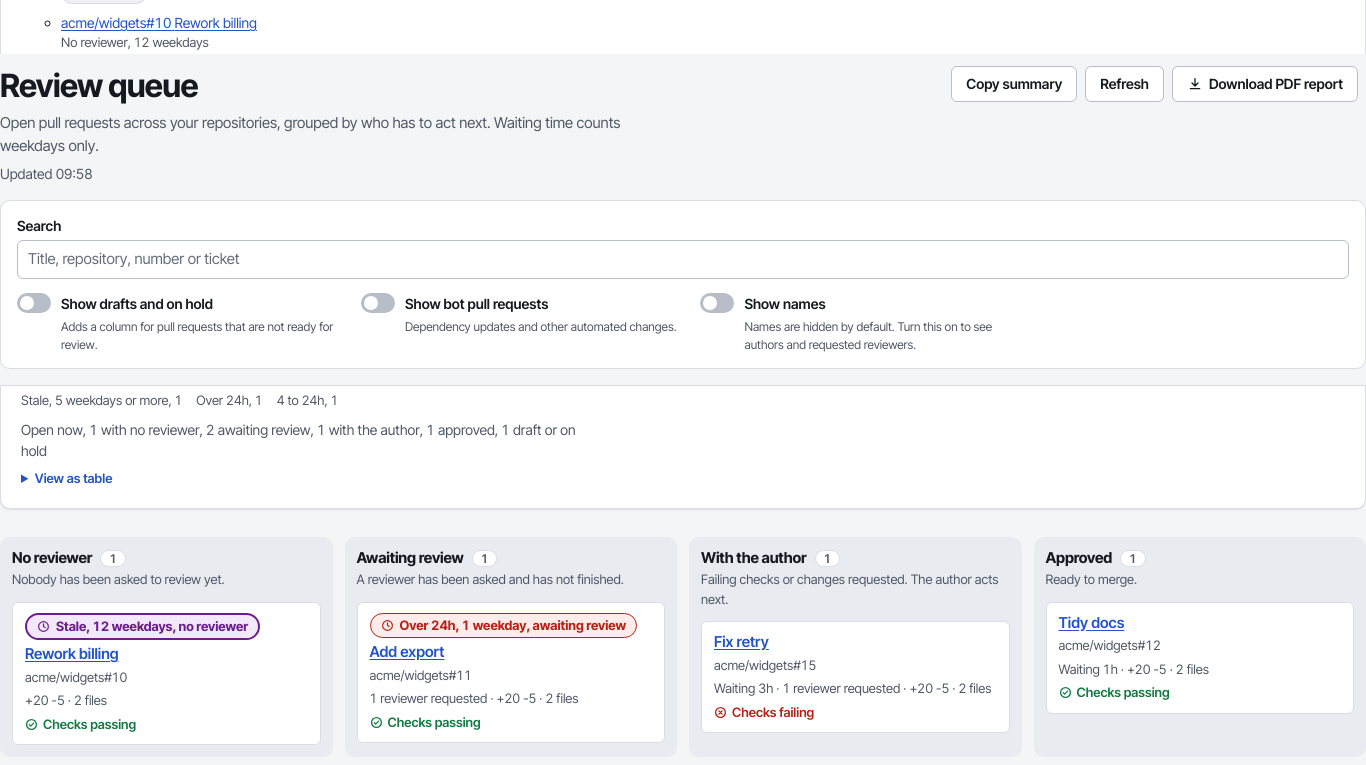
Test: ReviewQueuePage › shows a band legend, a bar per repository and its table
(page scrolled)
Expected: the list item "Stale, 5 weekdays or more" is shown, [0,217,181,238]
Expected: the text "Waiting time leaves out weekends" is shown, [0,246,203,263]
Click the heading "View as table" at (74, 478), box [35,470,112,486]
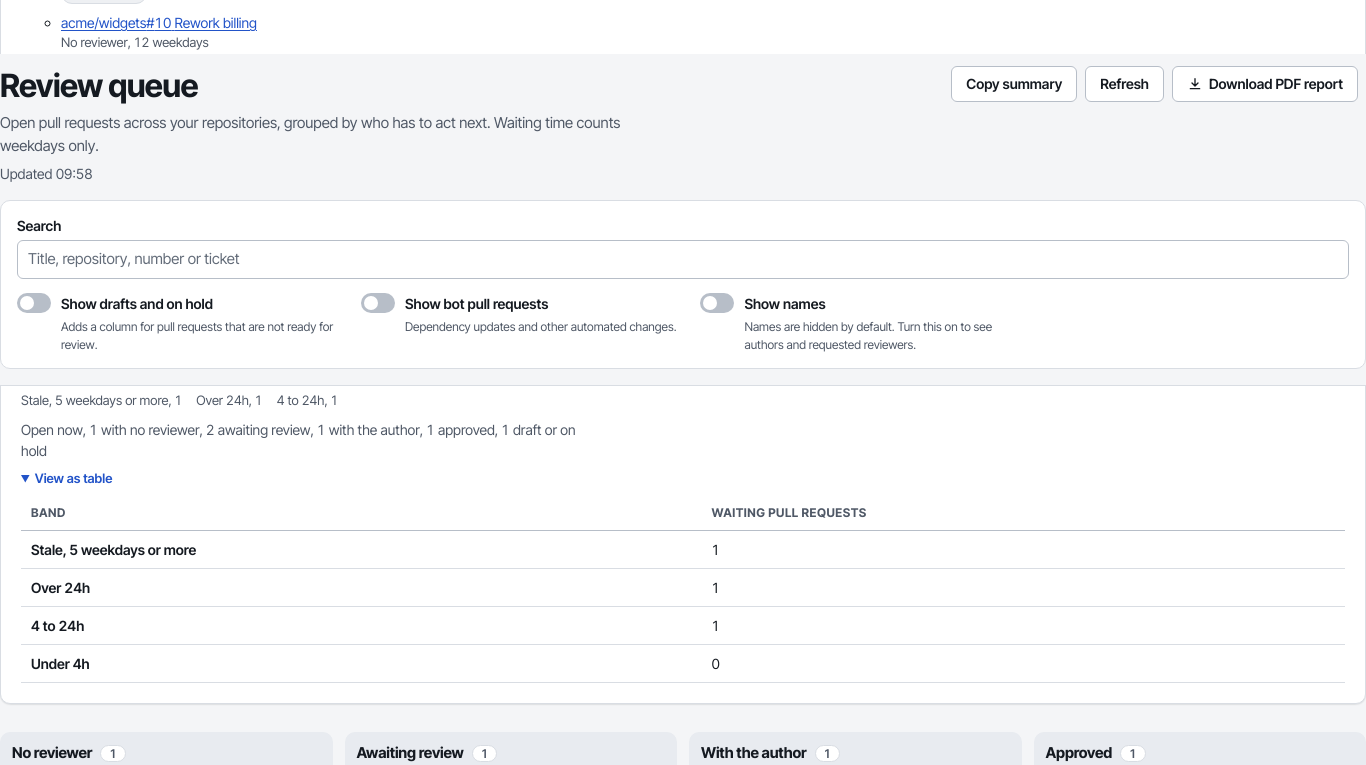
Result: the table named "acme/widgets" is shown at [21,496,1345,683]
